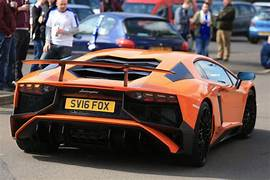number_plate: (66, 97, 115, 114)
